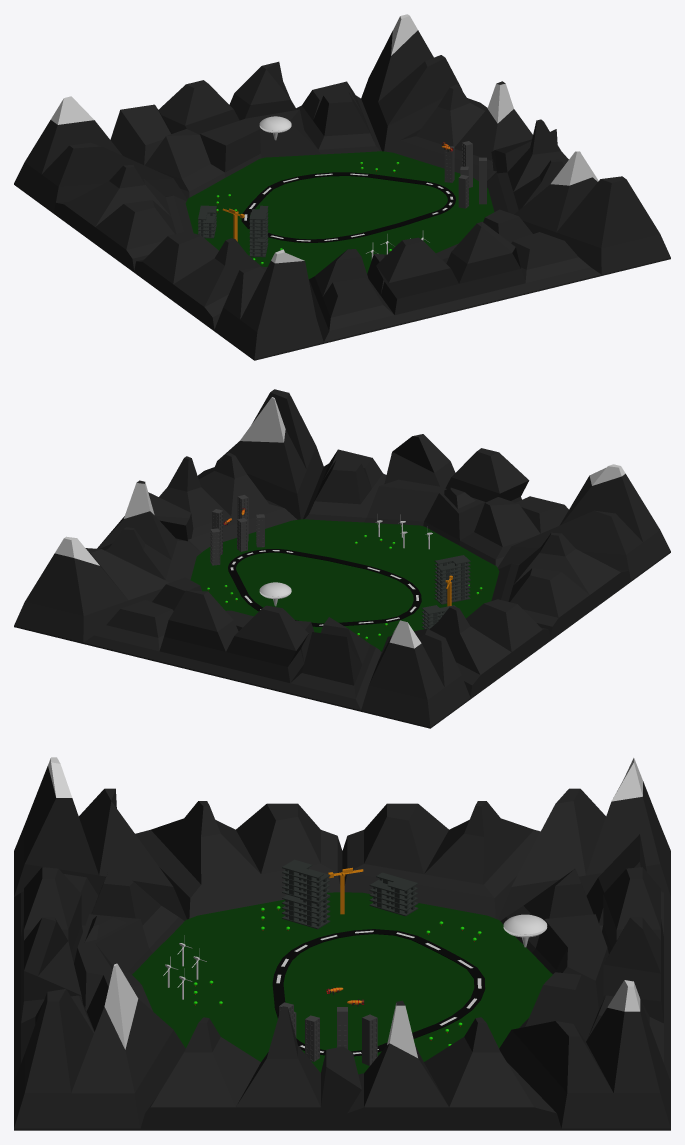
The model's file is rotate.obj.
3 renders of one model, top to bottom at view 1: azimuth 30°, elevation 25°; view 2: azimuth 150°, elevation 25°; view 3: azimuth 270°, elevation 25°, orthographic. The views are drawn at different scales.
Visible parts, largest first — view 1: Mountains_Cube.006, Cylinder_Cylinder.001, Cube.016_Cube.017, Cube_Cube.003, Cube.023_Cube.024; view 2: Mountains_Cube.006, Cylinder_Cylinder.001, Cube.016_Cube.017, Cube.023_Cube.024, Cube.022_Cube.023; view 3: Mountains_Cube.006, Cylinder_Cylinder.001, Cube.016_Cube.017, Cube_Cube.003, Cube.023_Cube.024, Cube.022_Cube.023, Cylinder.001_Cylinder, Cube.013_Cube.014, Cube.014_Cube.015.
Boxes of the visible parts, box(x1,y1,x2,y2) form: Mountains_Cube.006: box(14, 14, 670, 360); Cylinder_Cylinder.001: box(185, 151, 494, 279); Cube.016_Cube.017: box(241, 172, 455, 242); Cube_Cube.003: box(198, 205, 216, 238); Cube.023_Cube.024: box(249, 205, 268, 238); Mountains_Cube.006: box(14, 389, 670, 728); Cylinder_Cylinder.001: box(190, 519, 499, 651); Cube.016_Cube.017: box(228, 549, 421, 626); Cube.023_Cube.024: box(434, 555, 470, 585); Cube.022_Cube.023: box(434, 580, 470, 604); Mountains_Cube.006: box(14, 757, 670, 1130); Cylinder_Cylinder.001: box(132, 892, 552, 1074); Cube.016_Cube.017: box(272, 929, 485, 1056); Cube_Cube.003: box(369, 872, 418, 916); Cube.023_Cube.024: box(282, 859, 330, 903); Cube.022_Cube.023: box(282, 894, 330, 929); Cylinder.001_Cylinder: box(503, 914, 547, 947); Cube.013_Cube.014: box(362, 1014, 377, 1065); Cube.014_Cube.015: box(305, 1015, 319, 1061).
Size of the model in its own units: 600 by 142 by 600.
